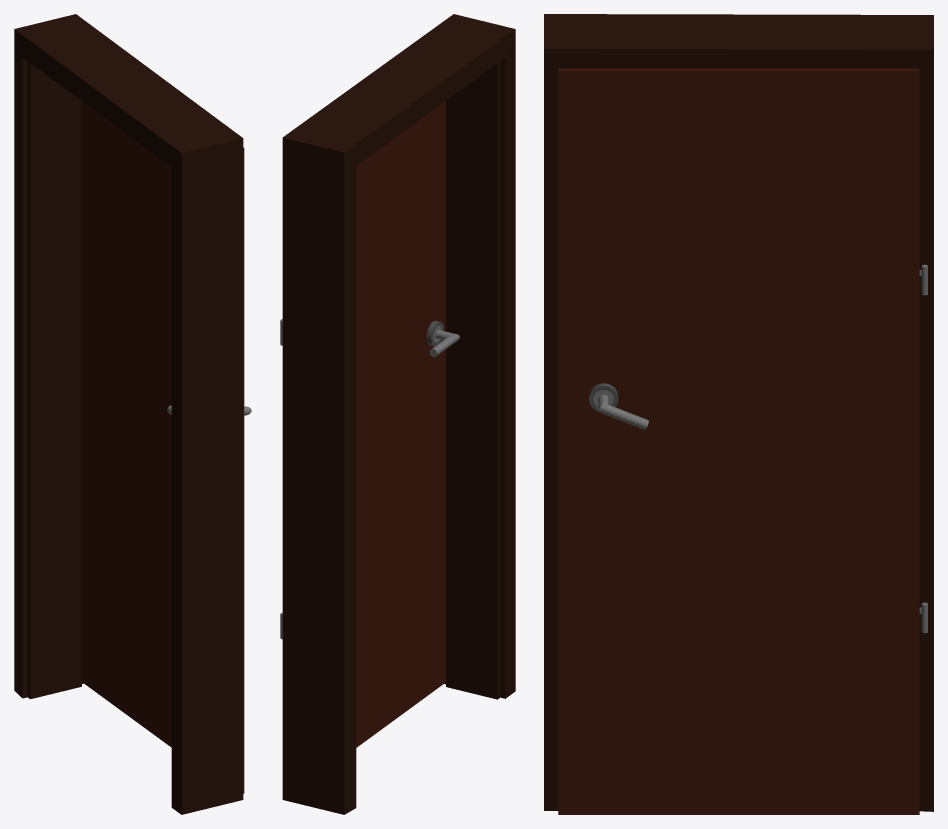
The model's file is door50.obj.
3 renders of one model, left to right at view 1: azimuth 30°, elevation 25°; view 2: azimuth 150°, elevation 25°; view 3: azimuth 270°, elevation 25°, orthographic. The views are drawn at different scales.
Visible parts, largest first — view 1: Cylinder.005, Cylinder.001; view 2: Cylinder.005, Cylinder.001; view 3: Cylinder.001, Cylinder.005.
Part boxes in pixels (bbox=[...]): Cylinder.005: bbox=[14, 14, 243, 814]; Cylinder.001: bbox=[82, 101, 244, 793]; Cylinder.005: bbox=[280, 14, 515, 814]; Cylinder.001: bbox=[280, 101, 445, 747]; Cylinder.001: bbox=[558, 68, 927, 814]; Cylinder.005: bbox=[544, 14, 933, 811].
Bounding box in the file's own units: 0.3039 × 2.05 × 0.95.
